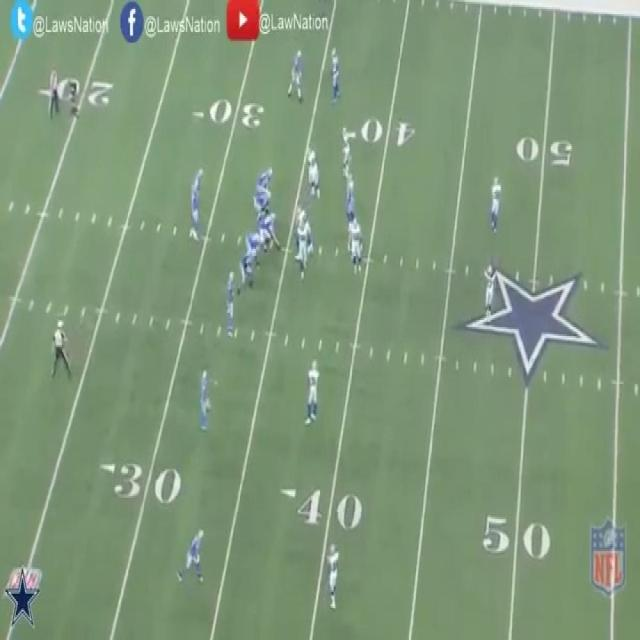center: (262, 210, 283, 252)
db: (306, 357, 317, 427), (327, 542, 339, 604), (489, 174, 501, 230), (329, 48, 342, 98), (483, 266, 494, 314)
lb: (348, 217, 364, 274), (344, 178, 354, 222)
qb: (189, 187, 201, 246)
